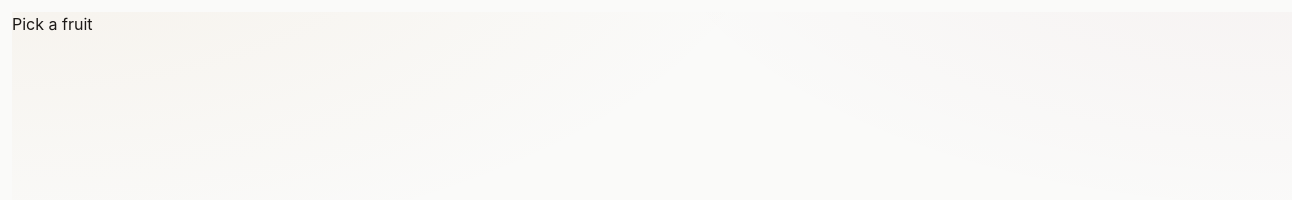
Test: Menu › ArrowDown on the button opens it; choosing an item closes it and returns the focus
Press ArrowDown in the button "Pick a fruit", box x1=12 y1=12 x2=92 y2=36
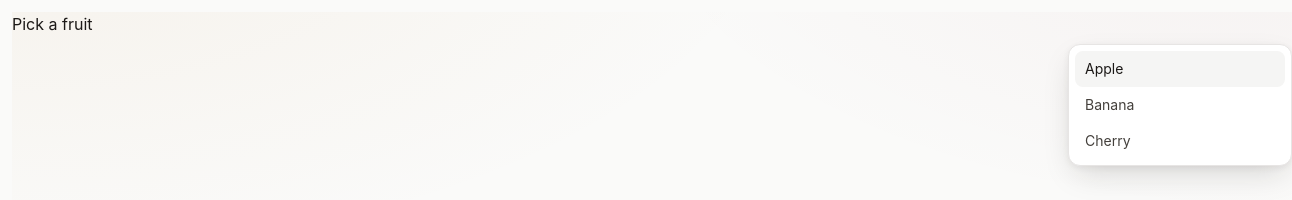
expect the menu is shown: met, box x1=1068 y1=44 x2=1291 y2=166
Click the menu item "Cherry". click: x=1180, y=141
box: x1=1075 y1=123 x2=1285 y2=159
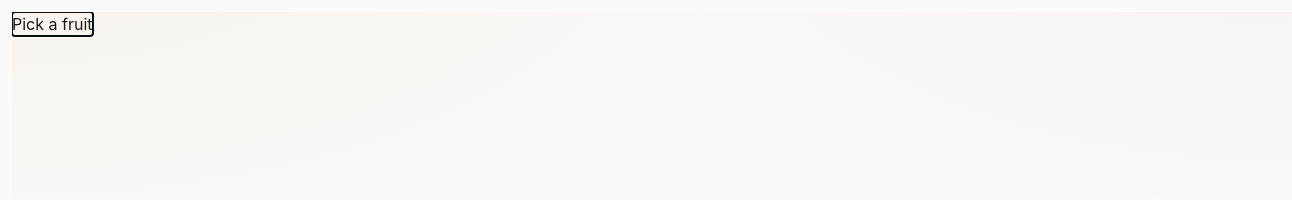
expect the menu is gone: met
